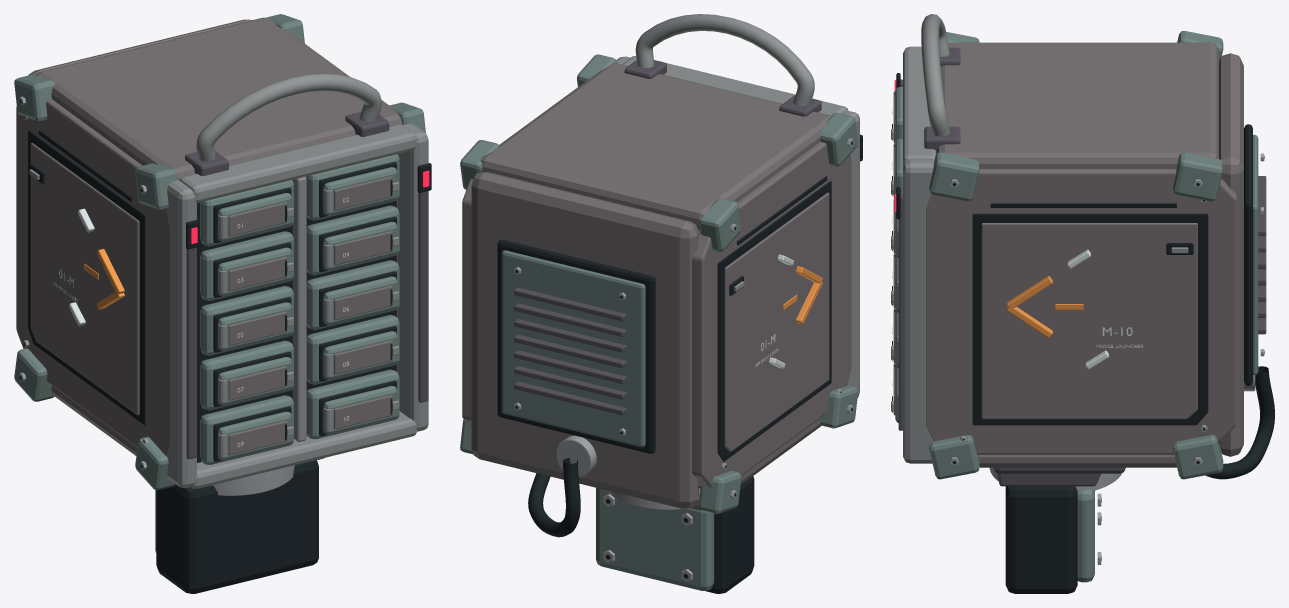
File: warden-ten-cell-pod-study-v1.glb
3 views of the same model, side by side, from view 1: azimuth 30°, elevation 25°; view 2: azimuth 150°, elevation 25°; view 3: azimuth 270°, elevation 25° (orthographic). The views are drawn at different scales.
Visible parts, largest first — view 1: POD Upper sloped lid, POD Flank access panel, POD Beveled outer flank, POD Back load spreader, POD Front cross frame.001, POD Front vertical armor rail.001, POD Front vertical armor rail, POD Front cross frame, POD Upper carry handle, POD Inset flank shadow, POD Front recessed face, POD Twin-column central separator (+53 smaller); view 2: POD Rear armored plate, POD Upper sloped lid, POD Flank access panel, POD Beveled outer flank, POD Rear access plate, POD Rear mount armor, POD Rear access border, POD Upper carry handle, POD Inset flank shadow, POD Back load spreader, POD Front vertical armor rail, POD Beveled outer flank.001 (+17 smaller); view 3: POD Flank access panel.001, POD Beveled outer flank.001, POD Upper sloped lid, POD Inset flank shadow.001, POD Back load spreader, POD Front vertical armor rail.001, POD Rear armored plate, POD Lower shell, POD Front cross frame.001, POD Upper carry handle, POD Rear access border, POD Flexible power umbilical (+12 smaller).
Part boxes in pixels (left/top/right/bottom): POD Upper sloped lid: left=35, top=17, right=402, bottom=180; POD Flank access panel: left=30, top=143, right=139, bottom=415; POD Beveled outer flank: left=16, top=99, right=170, bottom=455; POD Back load spreader: left=156, top=460, right=318, bottom=593; POD Front cross frame.001: left=179, top=124, right=416, bottom=202; POD Front vertical armor rail.001: left=397, top=124, right=428, bottom=431; POD Front vertical armor rail: left=166, top=180, right=196, bottom=487; POD Front cross frame: left=191, top=411, right=416, bottom=488; POD Upper carry handle: left=196, top=73, right=381, bottom=161; POD Inset flank shadow: left=28, top=130, right=145, bottom=425; POD Front recessed face: left=197, top=180, right=396, bottom=462; POD Twin-column central separator: left=292, top=176, right=306, bottom=441; POD Rear armored plate: left=471, top=172, right=698, bottom=508; POD Upper sloped lid: left=480, top=63, right=830, bottom=229; POD Flank access panel: left=724, top=192, right=829, bottom=451; POD Beveled outer flank: left=692, top=142, right=851, bottom=487; POD Rear access plate: left=501, top=250, right=645, bottom=447; POD Rear mount armor: left=596, top=487, right=714, bottom=590; POD Rear access border: left=497, top=239, right=655, bottom=453; POD Upper carry handle: left=635, top=14, right=814, bottom=106; POD Inset flank shadow: left=717, top=181, right=831, bottom=461; POD Back load spreader: left=705, top=476, right=754, bottom=593; POD Front vertical armor rail: left=843, top=111, right=859, bottom=398; POD Beveled outer flank.001: left=462, top=179, right=473, bottom=428; POD Flank access panel.001: left=981, top=223, right=1197, bottom=419; POD Beveled outer flank.001: left=926, top=169, right=1236, bottom=454; POD Upper sloped lid: left=936, top=42, right=1218, bottom=168; POD Inset flank shadow.001: left=972, top=213, right=1208, bottom=425; POD Back load spreader: left=1005, top=486, right=1077, bottom=593; POD Front vertical armor rail.001: left=903, top=160, right=933, bottom=463; POD Rear armored plate: left=1219, top=53, right=1243, bottom=456; POD Lower shell: left=978, top=454, right=1176, bottom=467; POD Front cross frame.001: left=903, top=49, right=936, bottom=166; POD Upper carry handle: left=921, top=14, right=949, bottom=136; POD Rear access border: left=1244, top=124, right=1252, bottom=385; POD Flexible power umbilical: left=1205, top=366, right=1274, bottom=479.
Bounding box in the file's own units: 0.5398 × 0.9838 × 0.6384.
